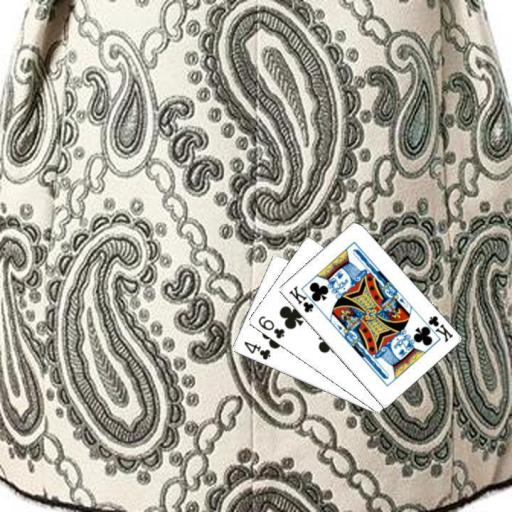card-corner: (418, 312, 455, 344), (285, 282, 321, 314), (254, 313, 286, 341), (240, 338, 272, 362)
